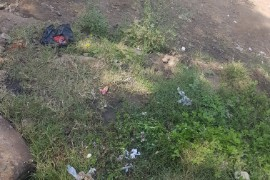trash: (64, 141, 144, 180), (43, 22, 87, 51), (172, 84, 190, 108), (95, 77, 114, 99), (227, 168, 254, 179)
